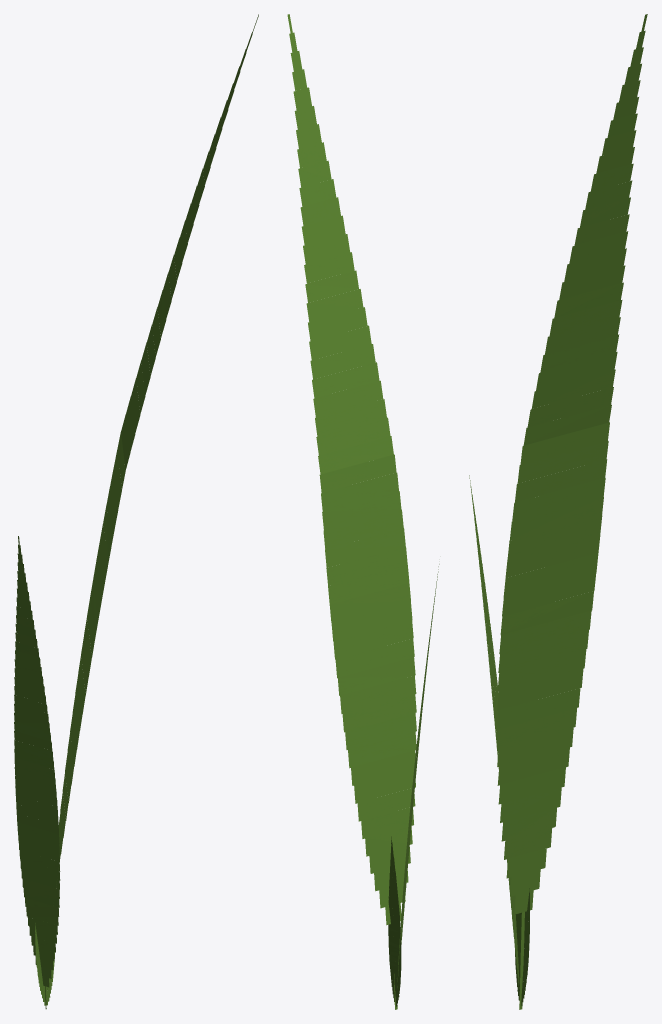
File: maize_003_day_035.dae
3 views of the same model, side by side, from view 1: azimuth 30°, elevation 25°; view 2: azimuth 150°, elevation 25°; view 3: azimuth 330°, elevation 25° (orthographic). The views are drawn at different scales.
Visible parts, largest first — view 1: node; view 2: node; view 3: node.
Part boxes in pixels (box(x1,y1,x2,y2)): node: box(14, 14, 258, 1009); node: box(287, 14, 439, 1009); node: box(469, 14, 647, 1009).
Bounding box in the file's own units: 0.0433 × 0.2025 × 0.0232.
1 material, 1 textured.
